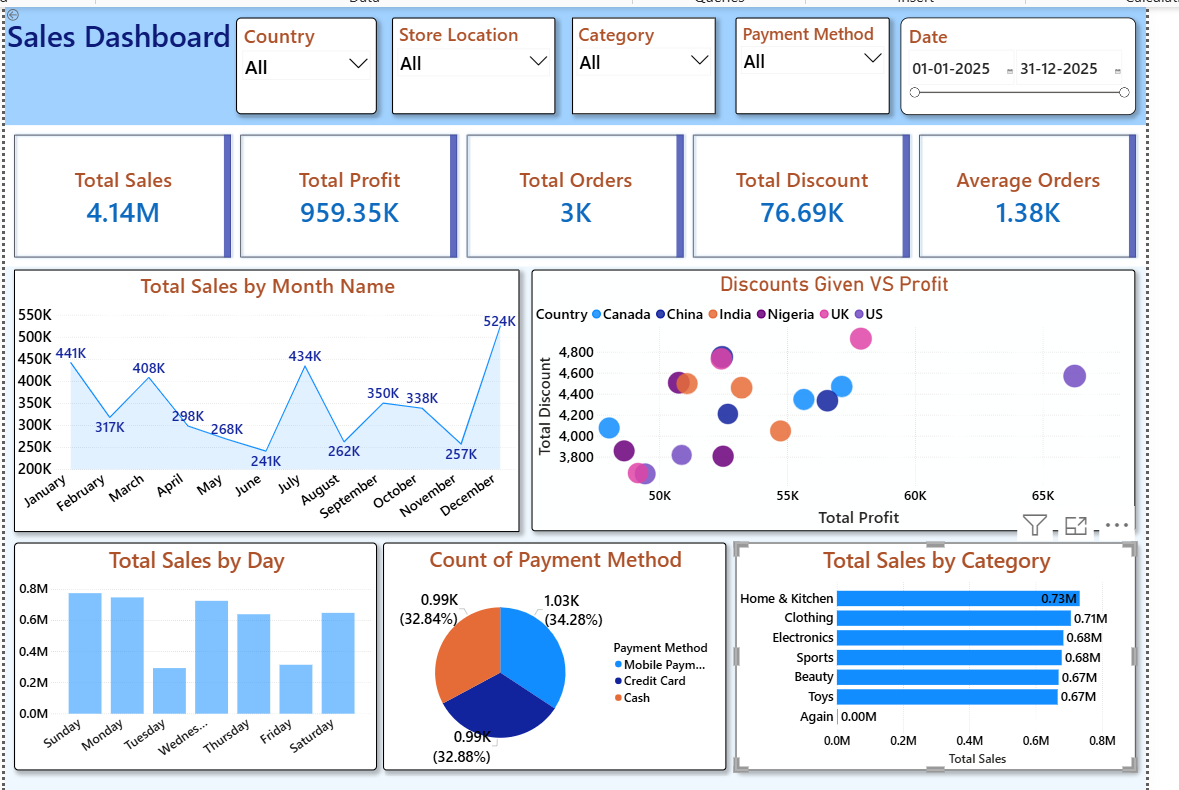

This screenshot's page, from the dashboard's own definition file:
{"tool":"powerbi","page":{"name":"Page 1","canvas":[2900,2000],"ordinal":0},"visuals":[{"type":"cardVisual","fields":{"Data":["public Sales Data.Total Sales","public Sales Data.TotalProfit","public Sales Data.Total Orders","public Sales Data.Total Discount","public Sales Data.Average Orders"]},"box":[0,300,2900.9,358.3],"z":0},{"type":"textbox","title":"Sales Dashboard","box":[0,0,3000,300],"z":1000},{"type":"slicer","fields":{"Values":["public Sales Data.Country"]},"box":[588.5,26.9,357.7,246.2],"z":2000},{"type":"slicer","fields":{"Values":["public Sales Data.Store Location"]},"box":[984.6,26.9,415.4,246.2],"z":3000},{"type":"slicer","fields":{"Values":["public Sales Data.Category"]},"box":[1442.3,26.9,365.4,246.2],"z":4000},{"type":"slicer","fields":{"Values":["public Sales Data.Date"]},"box":[2275.9,27.6,598.5,247.8],"z":5000},{"type":"slicer","fields":{"Values":["public Sales Data.Payment Method"]},"box":[1857.7,26.9,392.3,246.2],"z":6000},{"type":"areaChart","fields":{"Category":["public Sales Data.Month Name"],"Y":["public Sales Data.Total Sales"]},"box":[23.1,665.4,1284.7,667.1],"z":8000},{"type":"clusteredColumnChart","title":"Total Sales by Day ","fields":{"Category":["public Sales Data.Day Name"],"Y":["public Sales Data.Total Sales"]},"box":[22.9,1360.9,922.5,579.4],"z":9000},{"type":"scatterChart","title":"Discounts Given VS Profit","fields":{"Category":["public Sales Data.Store Location"],"Series":["public Sales Data.Country"],"Size":["public Sales Data.Total Orders"],"X":["public Sales Data.TotalProfit"],"Y":["public Sales Data.Total Discount"]},"box":[1338.5,665.4,1534.6,665.4],"z":10000},{"type":"pieChart","title":"Count of Payment Method","fields":{"Category":["public Sales Data.Payment Method"],"Y":["CountNonNull(public Sales Data.Payment Method)"]},"box":[960.6,1360.9,873,579.4],"z":11000},{"type":"barChart","fields":{"Category":["public Sales Data.Category"],"Y":["public Sales Data.Total Sales"]},"box":[1856.5,1360.9,1017.8,579.4],"z":12000}]}

Visuals, with their boxes in screenshot pixels (x1, y1, x2, y2):
cardVisual - public Sales Data.Total Sales x public Sales Data.TotalProfit: rect(9, 126, 1138, 265)
"Sales Dashboard" textbox: rect(9, 9, 1176, 126)
slicer - public Sales Data.Country: rect(238, 20, 377, 115)
slicer - public Sales Data.Store Location: rect(392, 20, 554, 115)
slicer - public Sales Data.Category: rect(570, 20, 713, 115)
slicer - public Sales Data.Date: rect(895, 20, 1128, 116)
slicer - public Sales Data.Payment Method: rect(732, 20, 885, 115)
areaChart - public Sales Data.Month Name x public Sales Data.Total Sales: rect(18, 268, 518, 528)
"Total Sales by Day " clusteredColumnChart: rect(18, 539, 377, 764)
"Discounts Given VS Profit" scatterChart: rect(530, 268, 1127, 527)
"Count of Payment Method" pieChart: rect(383, 539, 723, 764)
barChart - public Sales Data.Category x public Sales Data.Total Sales: rect(732, 539, 1128, 764)
